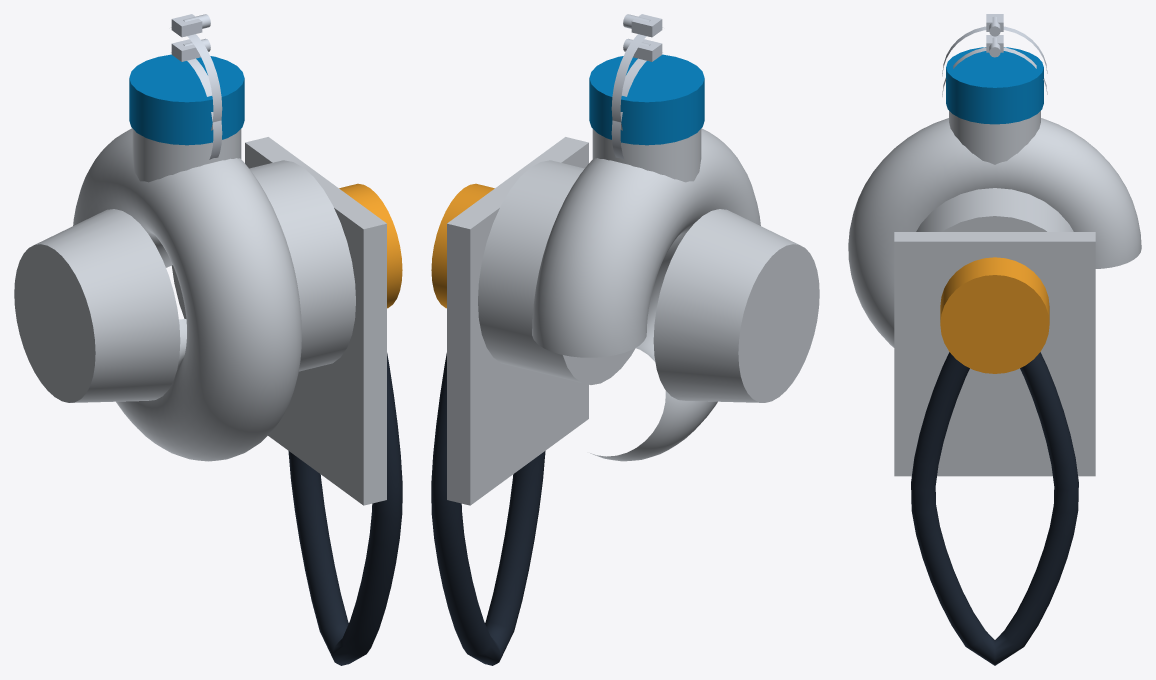
The model's file is supercharger_centrifugal.glb.
3 views of the same model, side by side, from view 1: azimuth 30°, elevation 25°; view 2: azimuth 150°, elevation 25°; view 3: azimuth 270°, elevation 25° (orthographic). The views are drawn at different scales.
Parts seen in each view (by area): view 1: Centrifugal_Compressor_Volute, Centrifugal_Air_Inlet_Horn, CNC_Billet_Mounting_Bracket, Centrifugal_Cogged_Belt, Planetary_StepUp_Gearcase, Discharge_Silicone_Coupler, Boost_Discharge_Outlet_Duct, Centrifugal_Supercharger_Assembly, Centrifugal_Drive_Pulley; view 2: Centrifugal_Compressor_Volute, Centrifugal_Air_Inlet_Horn, CNC_Billet_Mounting_Bracket, Planetary_StepUp_Gearcase, Centrifugal_Cogged_Belt, Discharge_Silicone_Coupler, Boost_Discharge_Outlet_Duct, Centrifugal_Supercharger_Assembly, Centrifugal_Drive_Pulley; view 3: CNC_Billet_Mounting_Bracket, Centrifugal_Compressor_Volute, Centrifugal_Cogged_Belt, Centrifugal_Drive_Pulley, Discharge_Silicone_Coupler, Planetary_StepUp_Gearcase, Boost_Discharge_Outlet_Duct, Centrifugal_Supercharger_Assembly.
Boxes of the visible parts, box(x1,y1,x2,y2) form: Centrifugal_Compressor_Volute: box(73, 128, 301, 461); Centrifugal_Air_Inlet_Horn: box(14, 209, 180, 402); CNC_Billet_Mounting_Bracket: box(245, 137, 386, 505); Centrifugal_Cogged_Belt: box(288, 353, 402, 665); Planetary_StepUp_Gearcase: box(171, 160, 355, 371); Discharge_Silicone_Coupler: box(129, 54, 244, 145); Boost_Discharge_Outlet_Duct: box(132, 129, 241, 182); Centrifugal_Supercharger_Assembly: box(171, 14, 222, 159); Centrifugal_Drive_Pulley: box(339, 183, 402, 308); Centrifugal_Compressor_Volute: box(532, 128, 760, 461); Centrifugal_Air_Inlet_Horn: box(653, 209, 819, 402); CNC_Billet_Mounting_Bracket: box(447, 137, 588, 505); Planetary_StepUp_Gearcase: box(478, 160, 635, 384); Centrifugal_Cogged_Belt: box(431, 353, 545, 665); Discharge_Silicone_Coupler: box(589, 54, 704, 145); Boost_Discharge_Outlet_Duct: box(592, 129, 701, 182); Centrifugal_Supercharger_Assembly: box(611, 14, 662, 159); Centrifugal_Drive_Pulley: box(431, 183, 494, 308); CNC_Billet_Mounting_Bracket: box(894, 232, 1095, 476); Centrifugal_Compressor_Volute: box(848, 118, 1141, 347); Centrifugal_Cogged_Belt: box(911, 352, 1078, 665); Centrifugal_Drive_Pulley: box(940, 257, 1049, 373); Discharge_Silicone_Coupler: box(946, 47, 1043, 124); Planetary_StepUp_Gearcase: box(916, 188, 1073, 231); Boost_Discharge_Outlet_Duct: box(949, 111, 1040, 164); Centrifugal_Supercharger_Assembly: box(942, 14, 1047, 96).
Size of the model in its own units: 0.215 by 0.4456 by 0.204.
